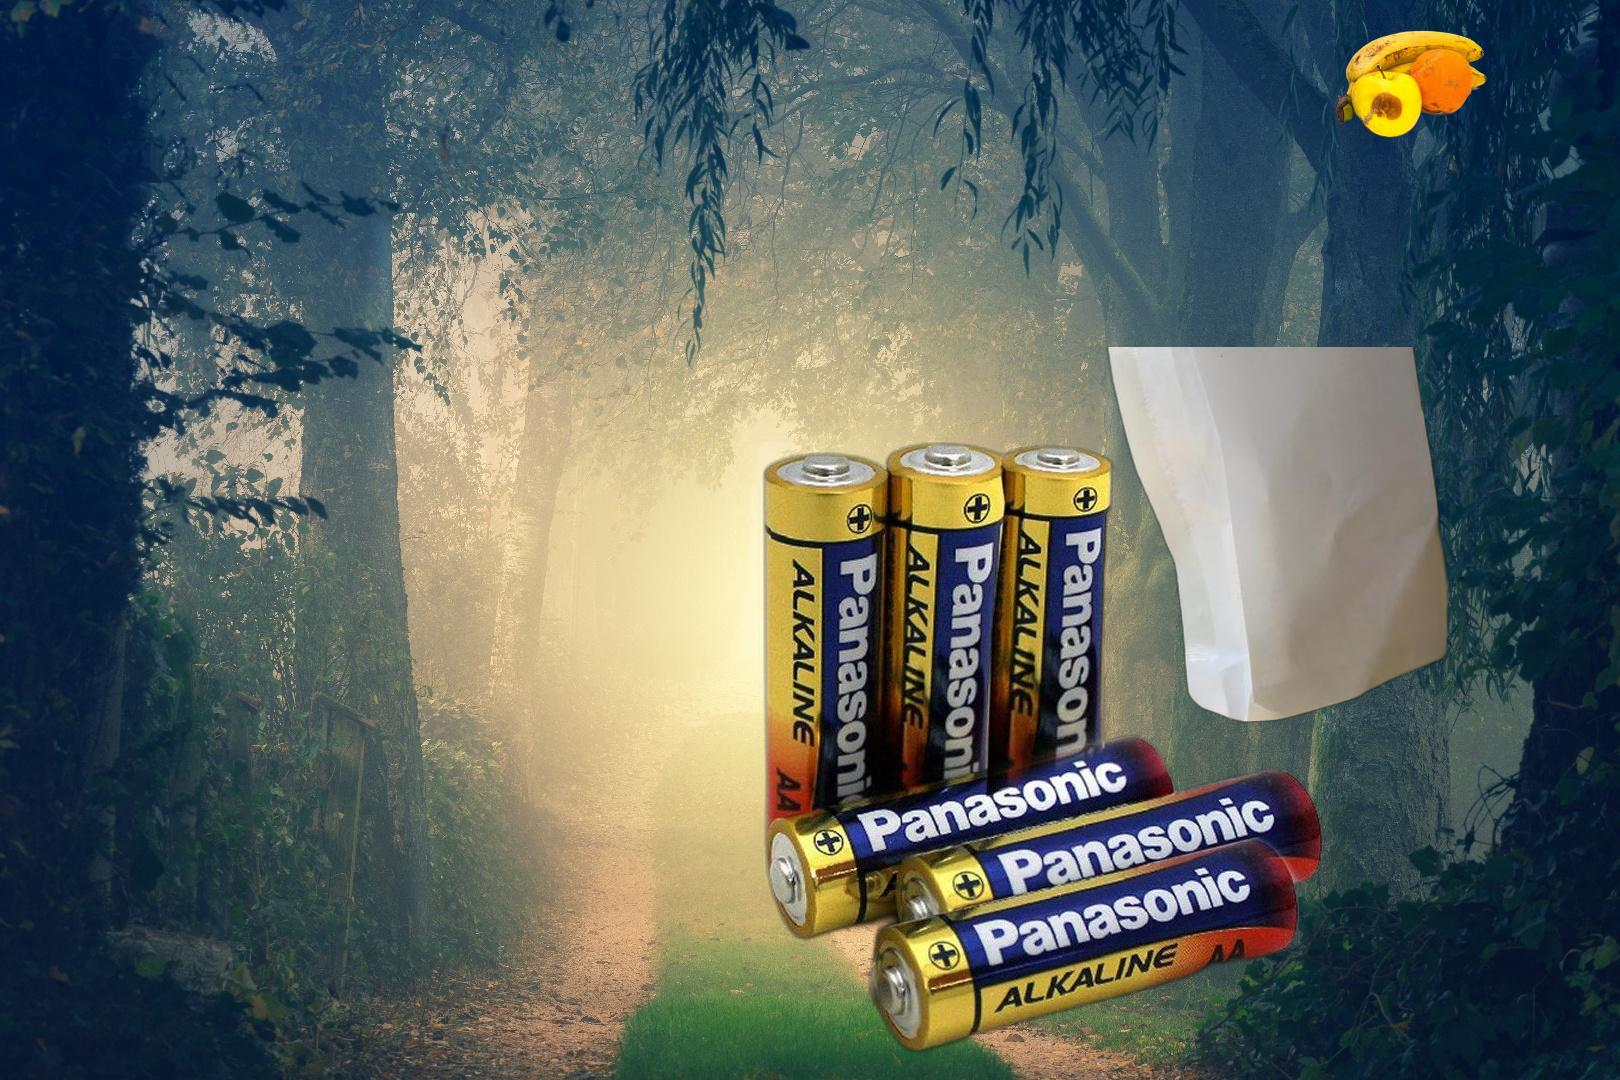battery: (756, 438, 1330, 1060)
biological: (1332, 28, 1490, 140)
paper: (1100, 347, 1454, 724)
